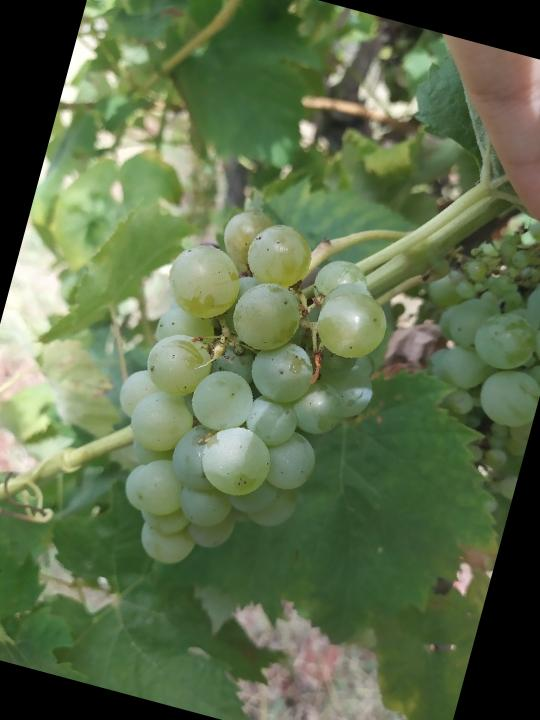grape: (76, 186, 414, 609)
